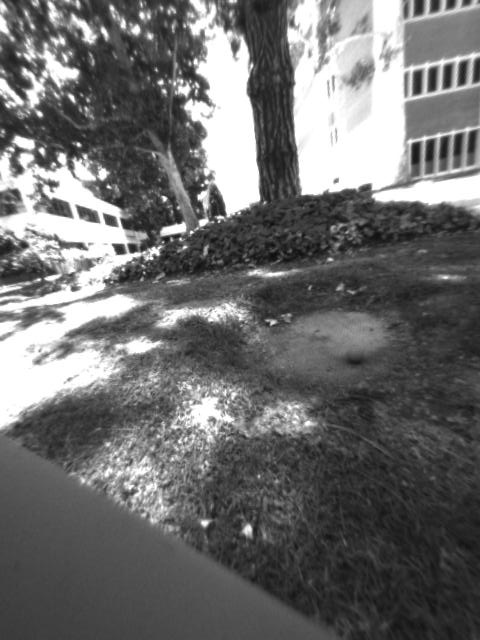dogtoy: (337, 338, 374, 369)
